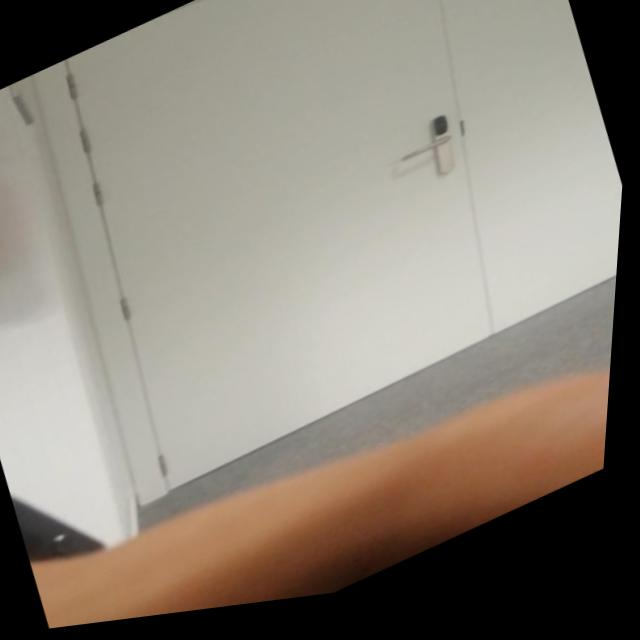door_handle: (389, 141, 456, 183)
